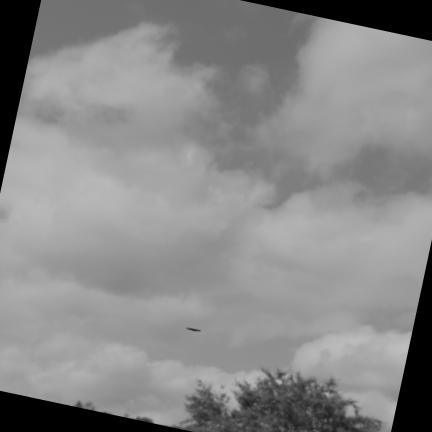Shahed: (187, 328, 200, 331)
